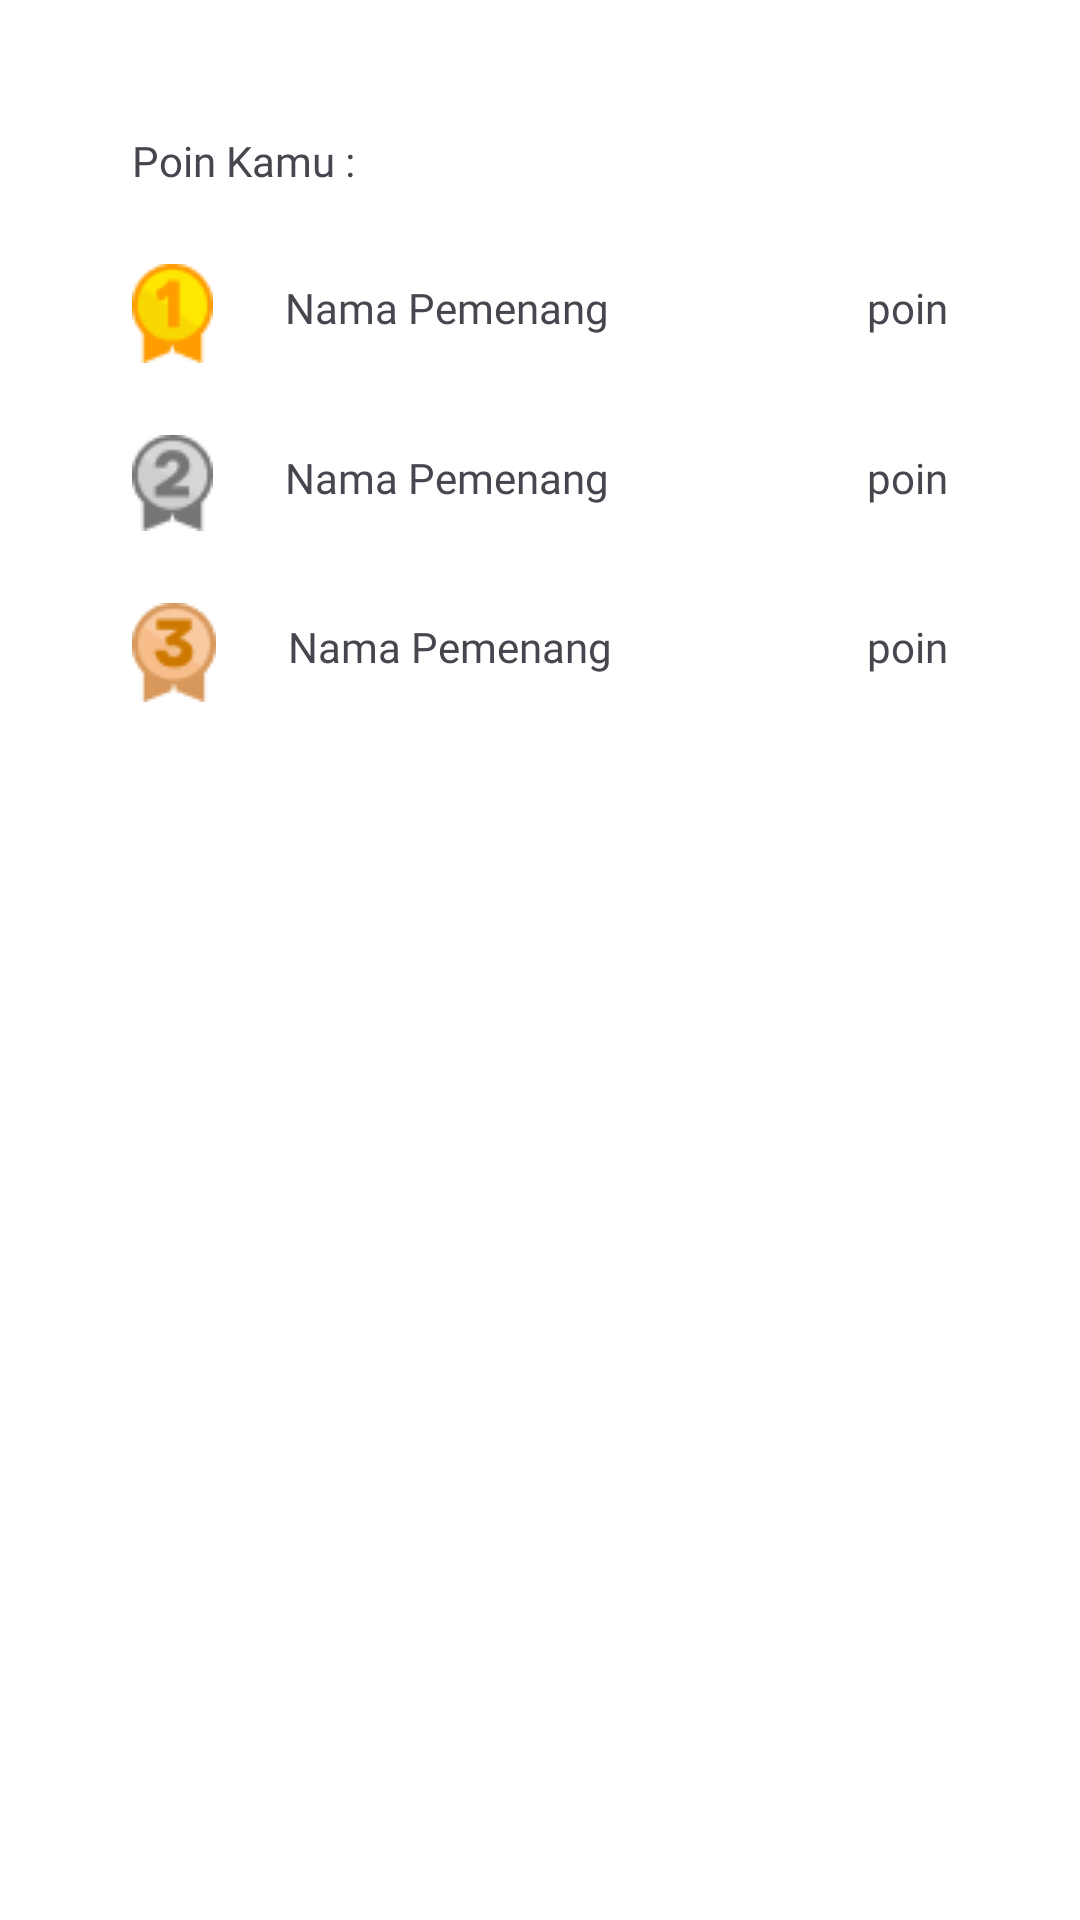

Named icons in this screenshot (1080px×1920px) and their bounding boxes, (x1=x1, y1=y1, x2=x2, y2=y2):
first place: (x1=132, y1=264, x2=213, y2=363)
second place: (x1=132, y1=435, x2=213, y2=531)
third place: (x1=132, y1=603, x2=216, y2=702)
